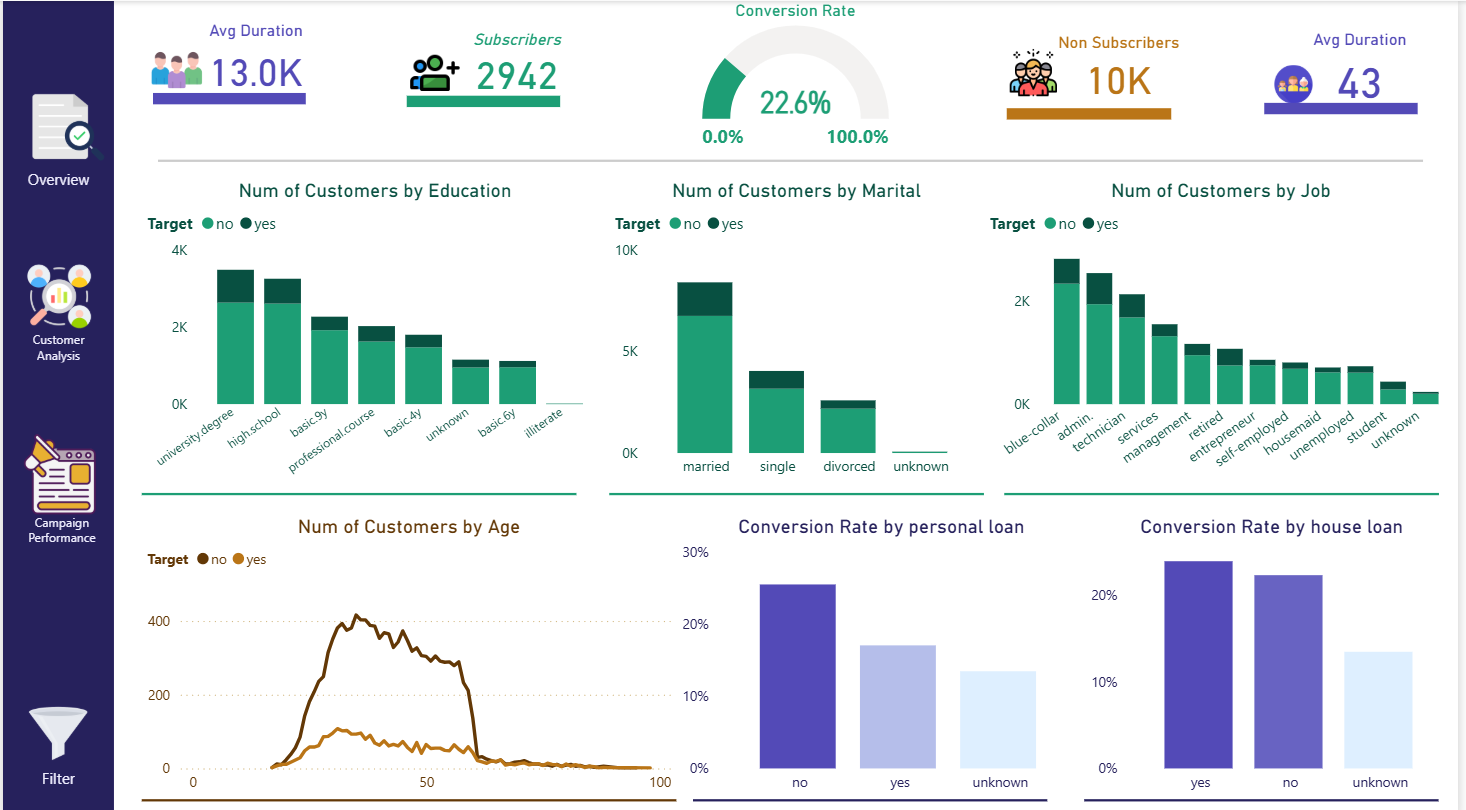

What the dashboard file says about the page in this screenshot:
{"tool":"powerbi","page":{"name":"Customer Analysis","canvas":[1280,720],"ordinal":2},"visuals":[{"type":"shape","box":[0,0,97.6,720.2],"z":0,"group":"g1"},{"type":"card","title":"Avg Duration","fields":{"Values":["Fact_Subscription.Total Customers"]},"box":[152.4,18.1,141.7,68.4],"z":0,"group":"g4"},{"type":"card","title":"Subscribers","fields":{"Values":["Fact_Subscription.Subscribers"]},"box":[396.4,25,110.5,57.6],"z":0,"group":"g2"},{"type":"card","title":"Avg Duration","fields":{"Values":["Dim_Customers.Avg Age"]},"box":[1135.3,25,115.5,69.6],"z":0,"group":"g5"},{"type":"card","title":"Non Subscribers","fields":{"Values":["Fact_Subscription.Non Subscribers"]},"box":[920,27.8,122.4,62.6],"z":0,"group":"g3"},{"type":"columnChart","title":"Num of Customers by Job","fields":{"Category":["Dim_Customers.job"],"Y":["Count(Fact_Subscription.CustomerID)"],"Series":["Fact_Subscription.Target"]},"box":[863.1,156,416.7,271.4],"z":0},{"type":"image","box":[122.4,31.3,61.2,60],"z":1000,"group":"g4"},{"type":"image","box":[1095,51.9,80.7,43.1],"z":1000,"group":"g5"},{"type":"shape","box":[355.1,59.7,135,55.7],"z":1000,"group":"g2"},{"type":"shape","box":[883.1,71.4,144.7,55.7],"z":1000,"group":"g3"},{"type":"image","box":[15.6,220.9,68.4,78],"z":1000,"group":"g1"},{"type":"lineChart","title":"Num of Customers by  Age","fields":{"Category":["Dim_Customers.age"],"Y":["Count(Fact_Subscription.CustomerID)"],"Series":["Fact_Subscription.Target"]},"box":[122.5,451.5,470.7,253.4],"z":1000},{"type":"image","box":[346,34.6,67.2,56.4],"z":2000,"group":"g2"},{"type":"image","box":[880.7,37.6,51.6,51.6],"z":2000,"group":"g3"},{"type":"shape","box":[132,58.9,134.5,55.2],"z":2000,"group":"g4"},{"type":"shape","box":[1109.8,67.4,135,52.9],"z":2000,"group":"g5"},{"type":"columnChart","title":"Num of Customers by Marital","fields":{"Y":["Count(Fact_Subscription.CustomerID)"],"Series":["Fact_Subscription.Target"],"Category":["Dim_Customers.marital"]},"box":[533.3,156,329.8,271.4],"z":2000},{"type":"image","box":[8.4,372.2,82.9,87.7],"z":2000,"group":"g1"},{"type":"columnChart","title":"Num of Customers by Education","fields":{"Category":["Dim_Customers.education"],"Y":["Count(Fact_Subscription.CustomerID)"],"Series":["Fact_Subscription.Target"]},"box":[122.5,156.1,410.7,271.4],"z":3000},{"type":"image","box":[7.1,604.8,84.5,79.8],"z":3000,"group":"g1"},{"type":"image","box":[19.2,74.4,78,73.2],"z":4000,"group":"g1"},{"type":"clusteredColumnChart","title":"Conversion Rate by personal  loan","fields":{"Category":["Dim_Customers.loan"],"Y":["Fact_Subscription.Conversion Rate"]},"box":[593.2,451.5,360.2,253.4],"z":4000},{"type":"clusteredColumnChart","title":"Conversion Rate by house loan","fields":{"Category":["Dim_Customers.housing"],"Y":["Fact_Subscription.Conversion Rate"]},"box":[952.2,451.5,327.8,253.4],"z":5000},{"type":"group","id":"g1","title":"bar","box":[0,0,97.6,720.2],"z":6000},{"type":"group","id":"g2","title":"Group 1","box":[346,25,160.9,90.4],"z":7000},{"type":"group","id":"g3","title":"Group 2","box":[880.7,27.8,161.4,98.8],"z":8000},{"type":"group","id":"g4","title":"Group 3","box":[122.4,18.1,171.1,96],"z":9000},{"type":"gauge","fields":{"Y":["Fact_Subscription.Conversion Rate"]},"box":[559.3,0,275,140.5],"z":10000},{"type":"group","id":"g5","title":"Group 3","box":[1095,25,155.8,94.6],"z":11000},{"type":"shape","box":[136.9,123.7,1113.1,34.8],"z":12000},{"type":"shape","box":[532.9,416,329.7,36.2],"z":13000},{"type":"shape","box":[880.7,416,382.6,36.2],"z":14000},{"type":"shape","box":[122.4,416,382.6,36.2],"z":15000},{"type":"shape","box":[951.7,684.5,311.7,36.2],"z":16000},{"type":"shape","box":[606.6,684.5,311.7,36.2],"z":17000},{"type":"shape","box":[122.4,684.5,470.3,36.2],"z":18000},{"type":"shape","box":[21.4,141.7,56,28.6],"z":20000},{"type":"shape","box":[21.4,447.6,61.9,34.5],"z":21000},{"type":"shape","box":[21.4,289.3,56,29.8],"z":22000},{"type":"shape","box":[21.4,669.1,56,28.6],"z":23000}]}

Visuals, with their boxes on the page's 1280x720 design canvas (x1, y1, x2, y2). These are canvas units, not pixel positions in the 1466x810 screenshot, which may show the page scaled, cropped or inside an application window:
shape: (0, 0, 98, 720)
"Avg Duration" card: (152, 18, 294, 86)
"Subscribers" card: (396, 25, 507, 83)
"Avg Duration" card: (1135, 25, 1251, 95)
"Non Subscribers" card: (920, 28, 1042, 90)
"Num of Customers by Job" columnChart: (863, 156, 1280, 427)
image: (122, 31, 184, 91)
image: (1095, 52, 1176, 95)
shape: (355, 60, 490, 115)
shape: (883, 71, 1028, 127)
image: (16, 221, 84, 299)
"Num of Customers by  Age" lineChart: (122, 452, 593, 705)
image: (346, 35, 413, 91)
image: (881, 38, 932, 89)
shape: (132, 59, 266, 114)
shape: (1110, 67, 1245, 120)
"Num of Customers by Marital" columnChart: (533, 156, 863, 427)
image: (8, 372, 91, 460)
"Num of Customers by Education" columnChart: (122, 156, 533, 428)
image: (7, 605, 92, 685)
image: (19, 74, 97, 148)
"Conversion Rate by personal  loan" clusteredColumnChart: (593, 452, 953, 705)
"Conversion Rate by house loan" clusteredColumnChart: (952, 452, 1280, 705)
"bar" group: (0, 0, 98, 720)
"Group 1" group: (346, 25, 507, 115)
"Group 2" group: (881, 28, 1042, 127)
"Group 3" group: (122, 18, 294, 114)
gauge - Fact_Subscription.Conversion Rate: (559, 0, 834, 140)
"Group 3" group: (1095, 25, 1251, 120)
shape: (137, 124, 1250, 158)
shape: (533, 416, 863, 452)
shape: (881, 416, 1263, 452)
shape: (122, 416, 505, 452)
shape: (952, 684, 1263, 721)
shape: (607, 684, 918, 721)
shape: (122, 684, 593, 721)
shape: (21, 142, 77, 170)
shape: (21, 448, 83, 482)
shape: (21, 289, 77, 319)
shape: (21, 669, 77, 698)
